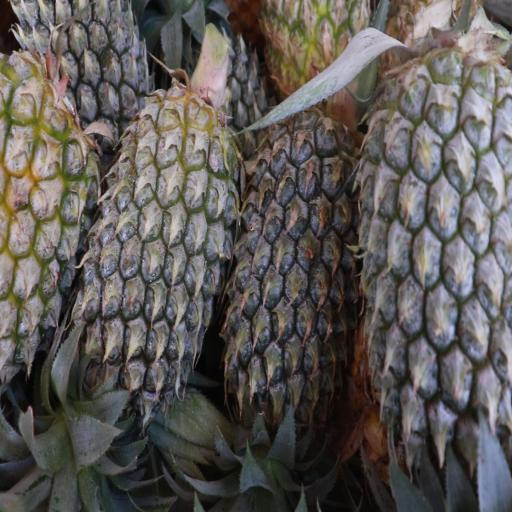------------------------------: (0, 63, 95, 369), (262, 0, 371, 113)
